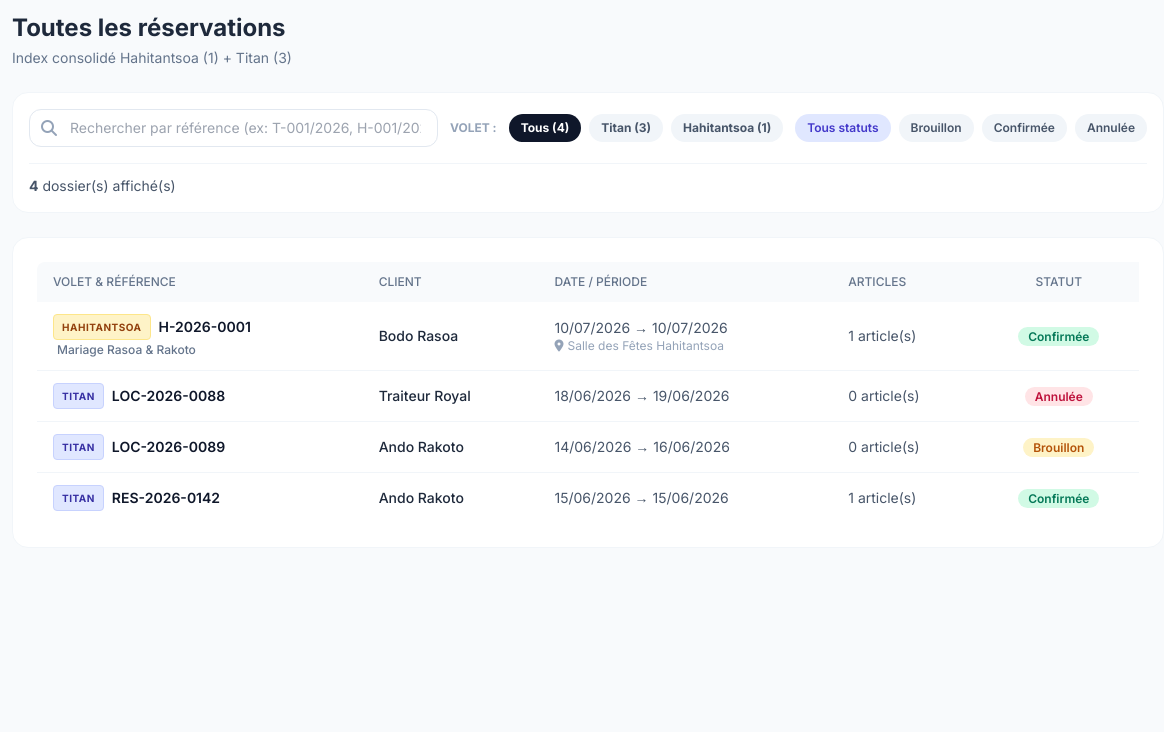
Test case: ReservationsPage › filtre par statut Confirmée
The width and height of the screenshot is (1164, 732).
Check: the button "RES-2026-0142" is shown, box [112,488,220,508]
Click the button "Confirmée" at coordinates (1024, 128), box [982,114,1067,142]
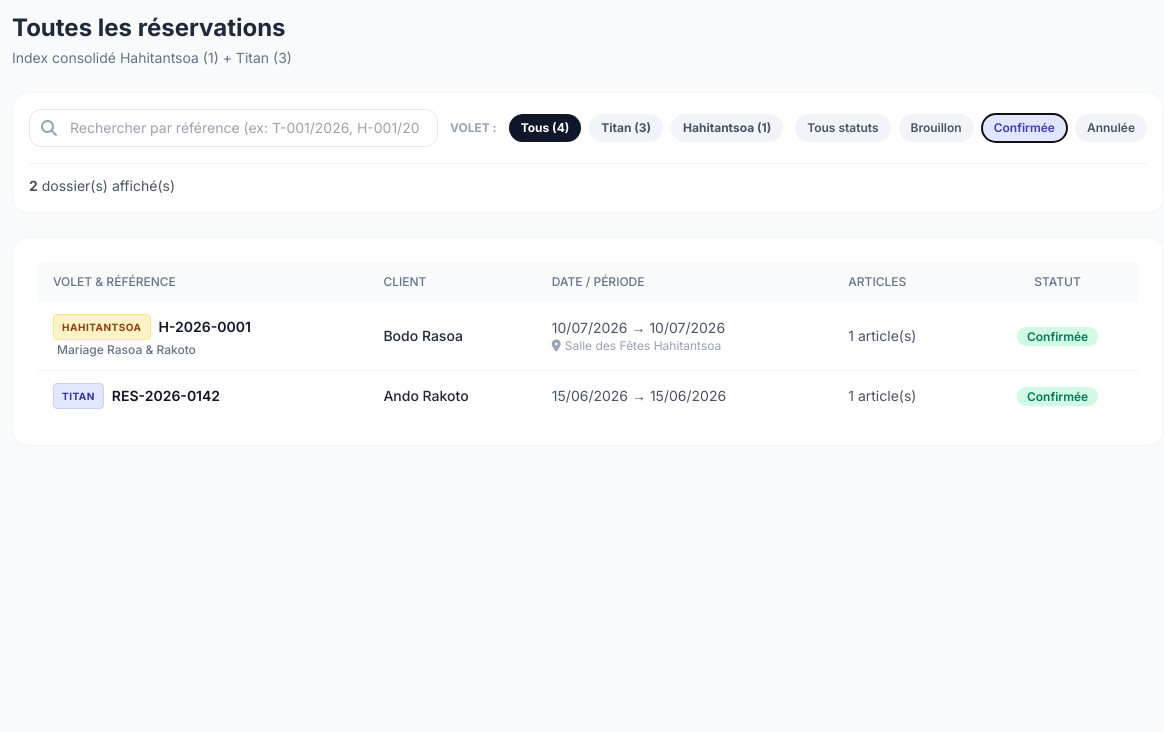
Check: the button "RES-2026-0142" is shown, box [112,386,220,406]
Check: the button "LOC-2026-0089" is gone
Check: the button "LOC-2026-0088" is gone
